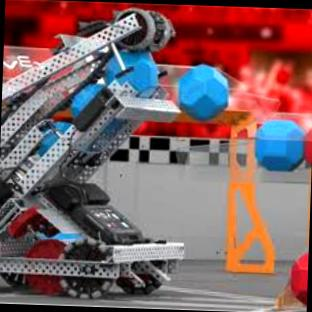Goal: (206, 67, 278, 272), (213, 78, 277, 272), (3, 46, 50, 79), (160, 64, 193, 100)
Med_goal: (267, 111, 312, 131)
Robot: (0, 7, 183, 297)
V5_BLUE: (71, 49, 158, 117), (179, 65, 227, 118), (256, 120, 303, 170), (36, 128, 57, 154), (54, 230, 81, 240), (53, 119, 72, 133)
V5_RED: (291, 252, 307, 304), (304, 128, 312, 168)
blueingoal: (179, 64, 227, 120), (256, 120, 302, 168)
blueinrobot: (106, 50, 157, 94), (72, 82, 103, 117), (36, 128, 57, 153), (54, 231, 82, 239), (53, 120, 70, 132)
redingoal: (304, 127, 312, 164)
